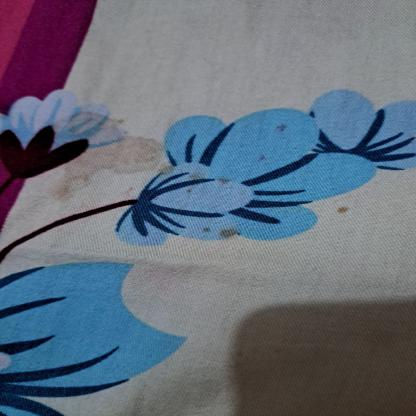spot: (88, 112, 163, 177), (52, 106, 96, 201), (218, 225, 249, 242), (156, 160, 184, 176), (332, 202, 357, 219), (272, 121, 298, 137), (190, 166, 212, 183), (252, 150, 280, 162), (212, 174, 237, 184), (200, 224, 218, 234), (182, 186, 200, 195)
